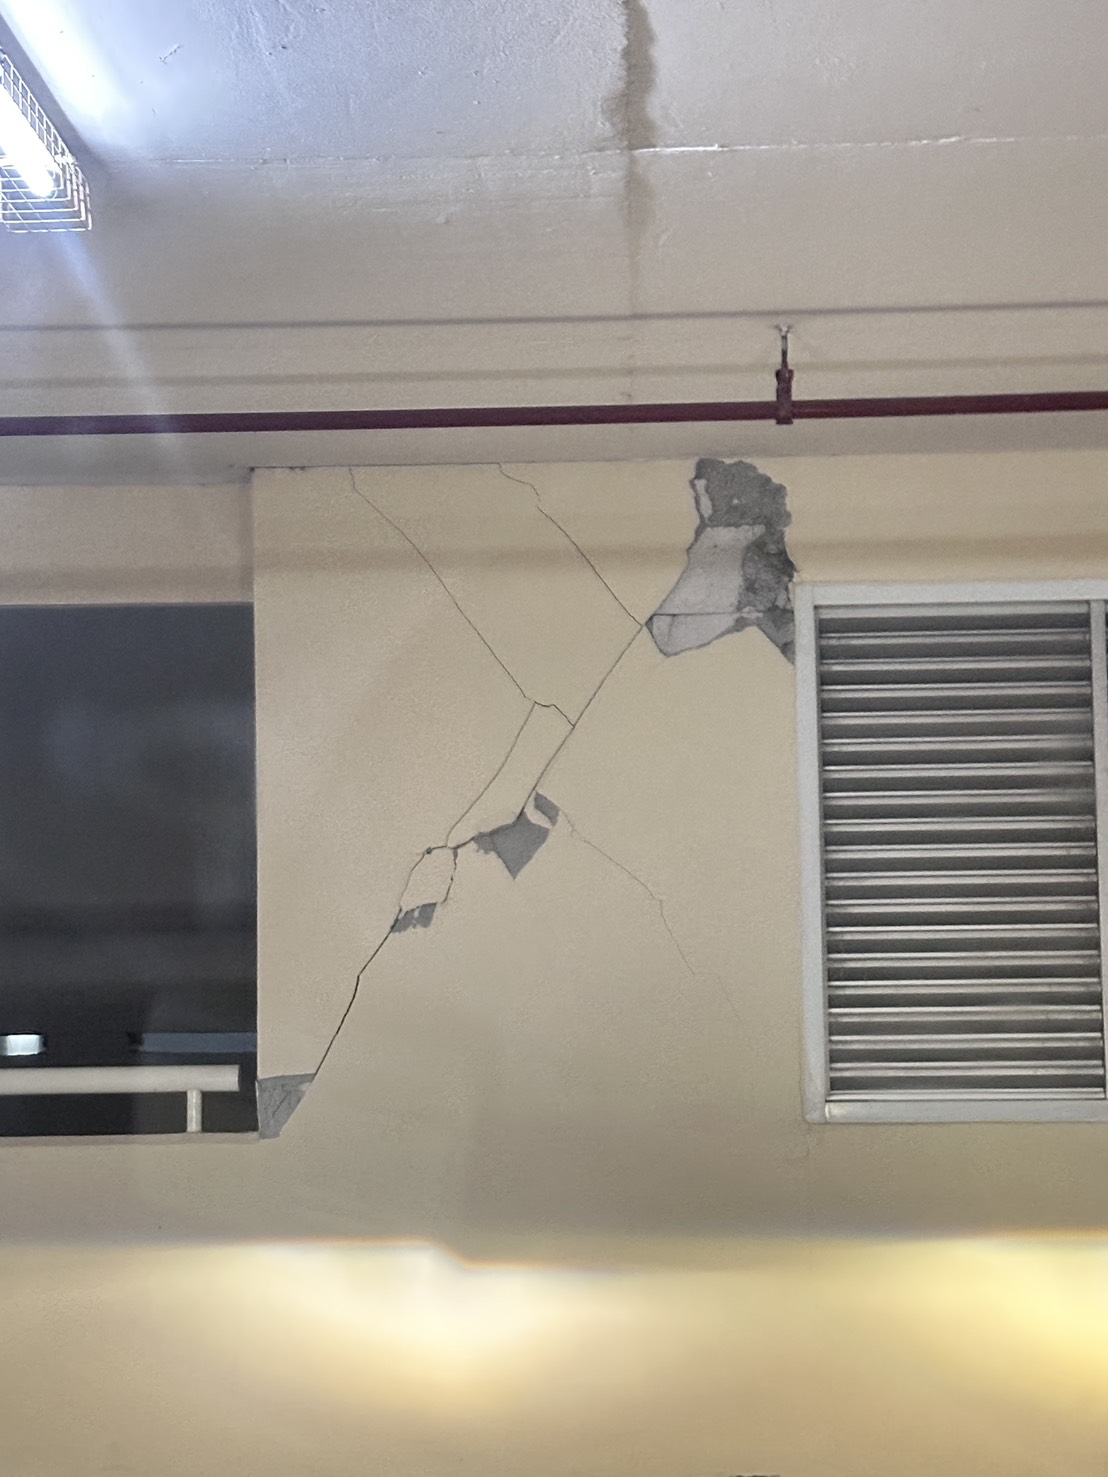Medium: (290, 466, 801, 1172)
